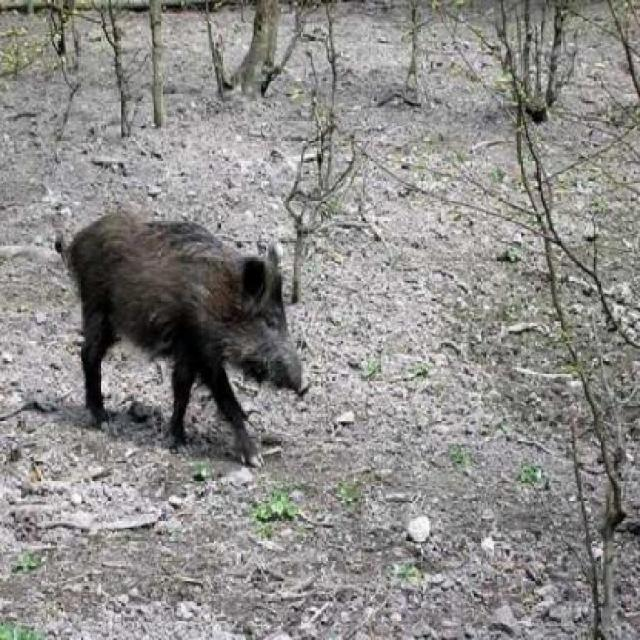pig: (35, 175, 303, 477)
